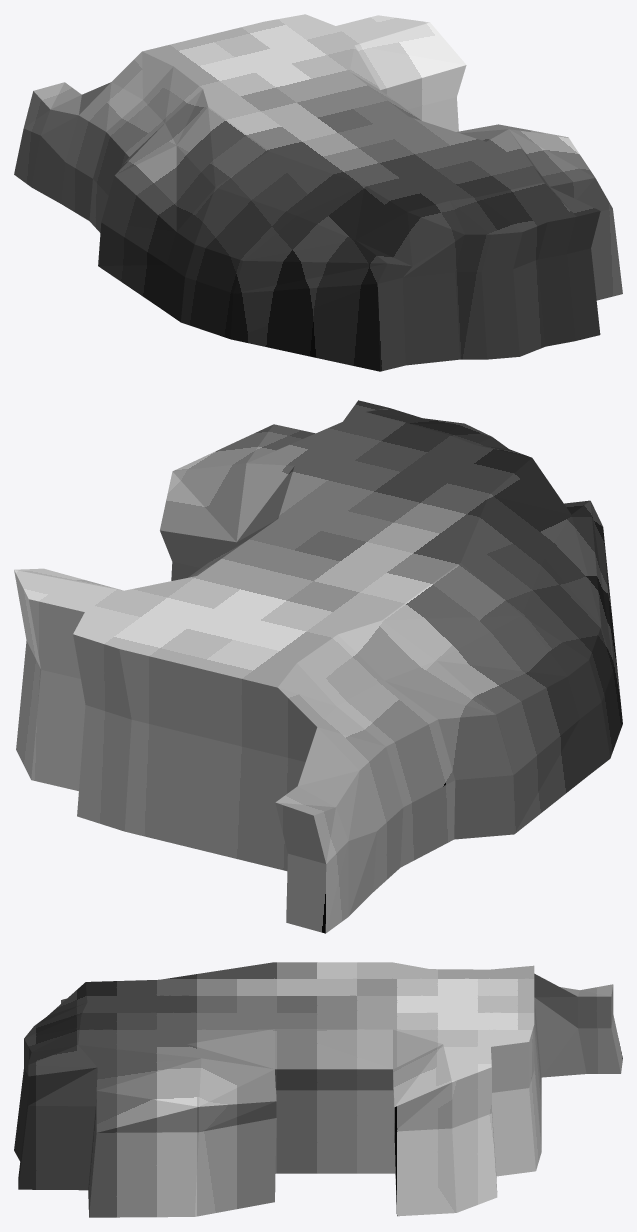
The model's file is Rock_331x02.gltf.
3 views of the same model, one above another, from view 1: azimuth 30°, elevation 25°; view 2: azimuth 150°, elevation 25°; view 3: azimuth 270°, elevation 25° (orthographic). The views are drawn at different scales.
Visible parts, largest first — view 1: Rock_331x02; view 2: Rock_331x02; view 3: Rock_331x02.
Part boxes in pixels (x1,y1,x2,y2): Rock_331x02: (14, 14, 622, 371); Rock_331x02: (14, 400, 622, 933); Rock_331x02: (14, 962, 622, 1217).
Bounding box in the file's own units: 0.762 × 0.2704 × 1.13.
Materials: 1 (1 with a texture image).
